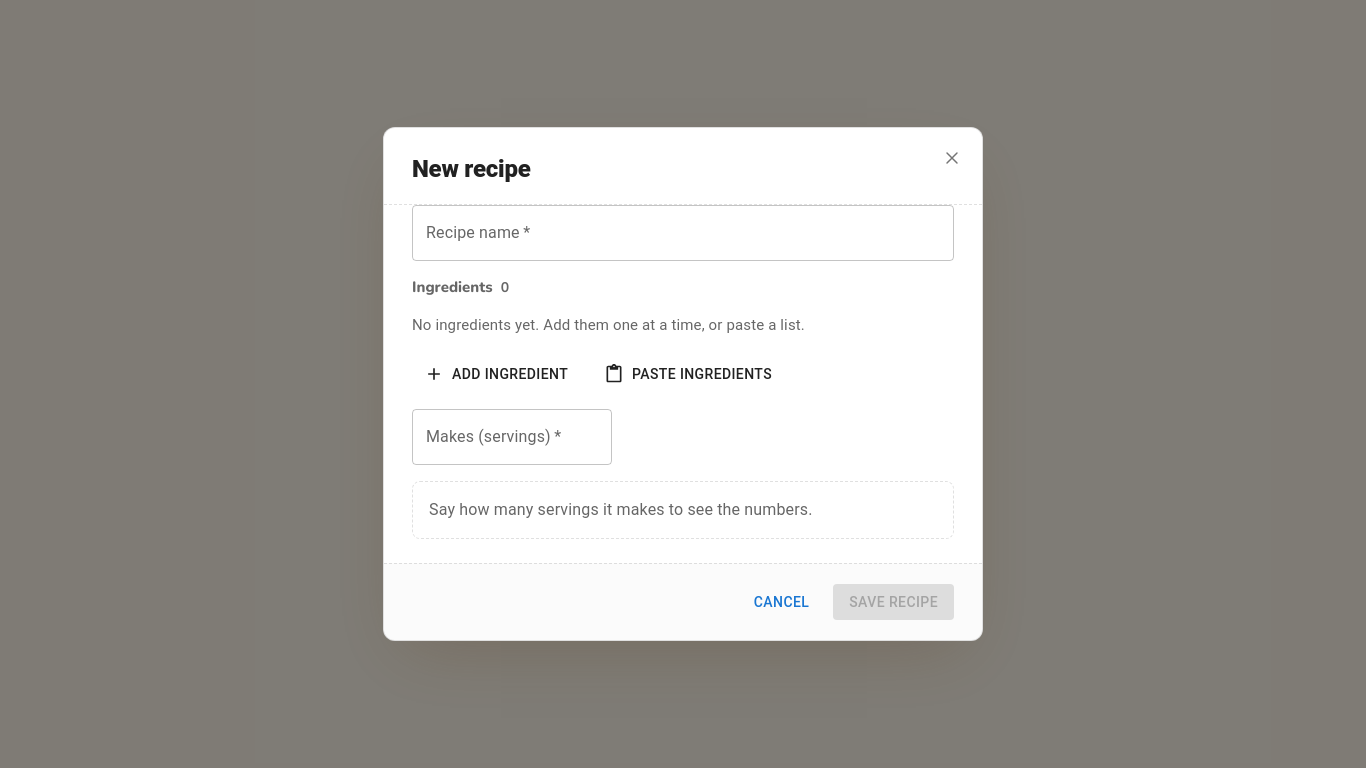
Test: recipe builder: live preview and save › keeps Save disabled until name, a resolved ingredient and a yield exist
expect the button "Save recipe" is disabled: met, box x1=833 y1=584 x2=954 y2=620
Type "Chili" into the field labelled "Recipe name *". click: (683, 232)
box: x1=412 y1=204 x2=954 y2=260
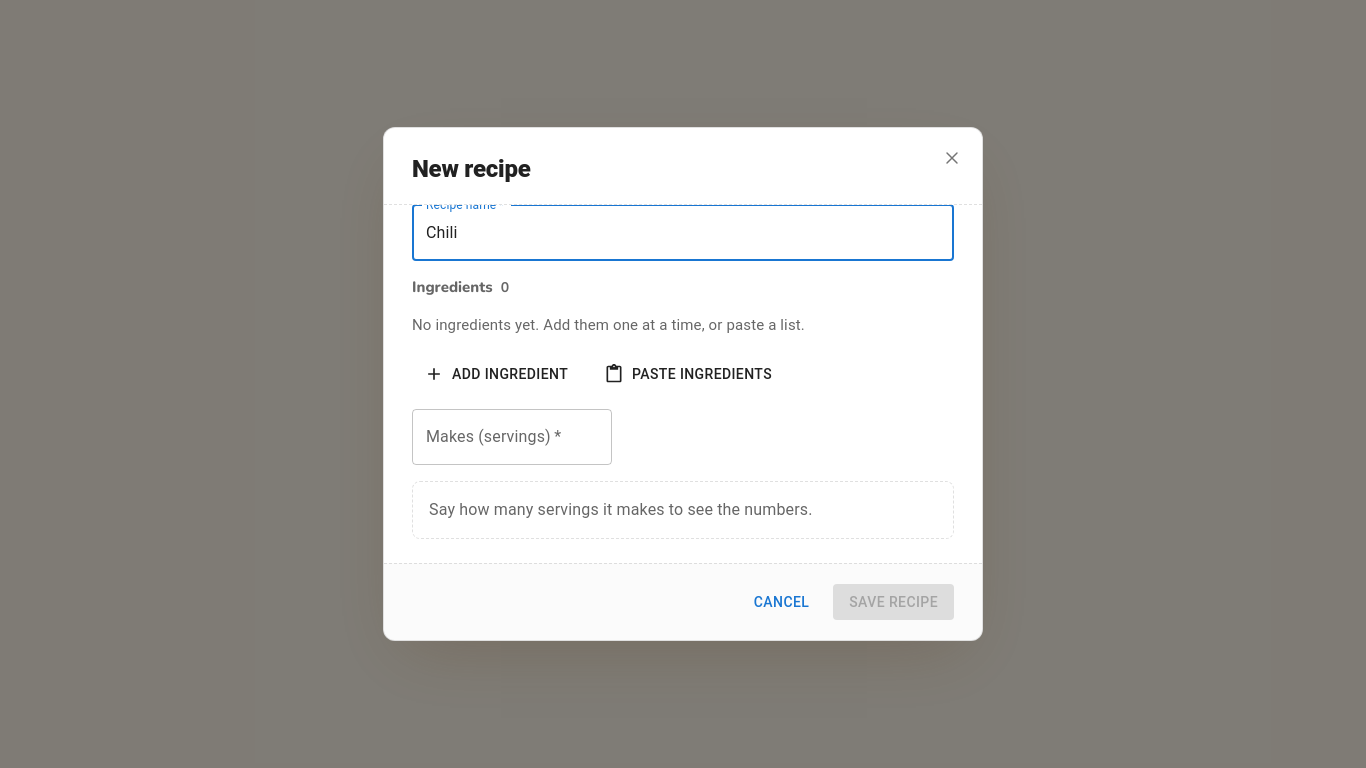
Click the button "Add ingredient". click: (498, 374)
box: x1=412 y1=356 x2=584 y2=392
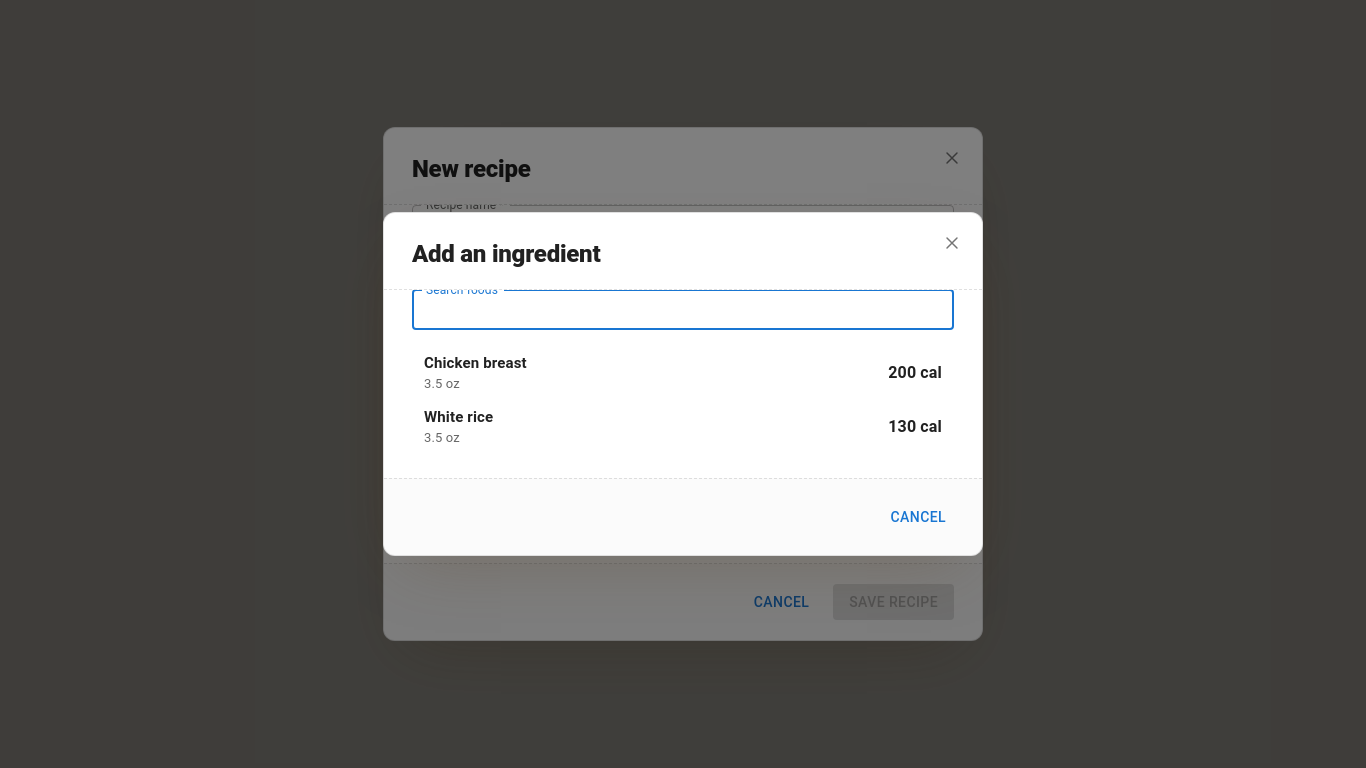
Click the button "Chicken breast 3.5 oz 200 cal". click: (475, 363)
box: x1=412 y1=346 x2=954 y2=400
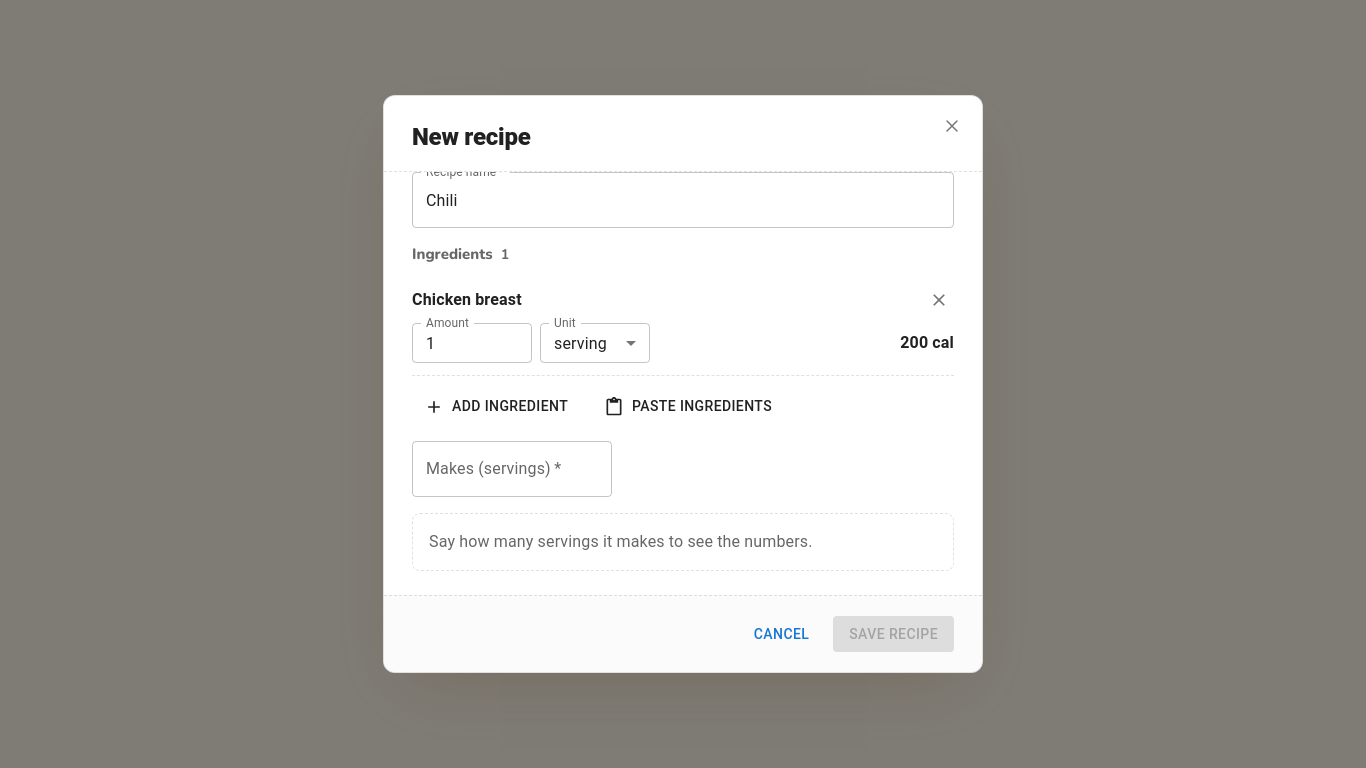
expect the button "Save recipe" is disabled: met, box x1=833 y1=616 x2=954 y2=652
expect the label labelled "Search foods" is gone: met
Type "2.5" into the number field labelled "Makes (servings) *". click: (512, 469)
box: x1=412 y1=441 x2=612 y2=497
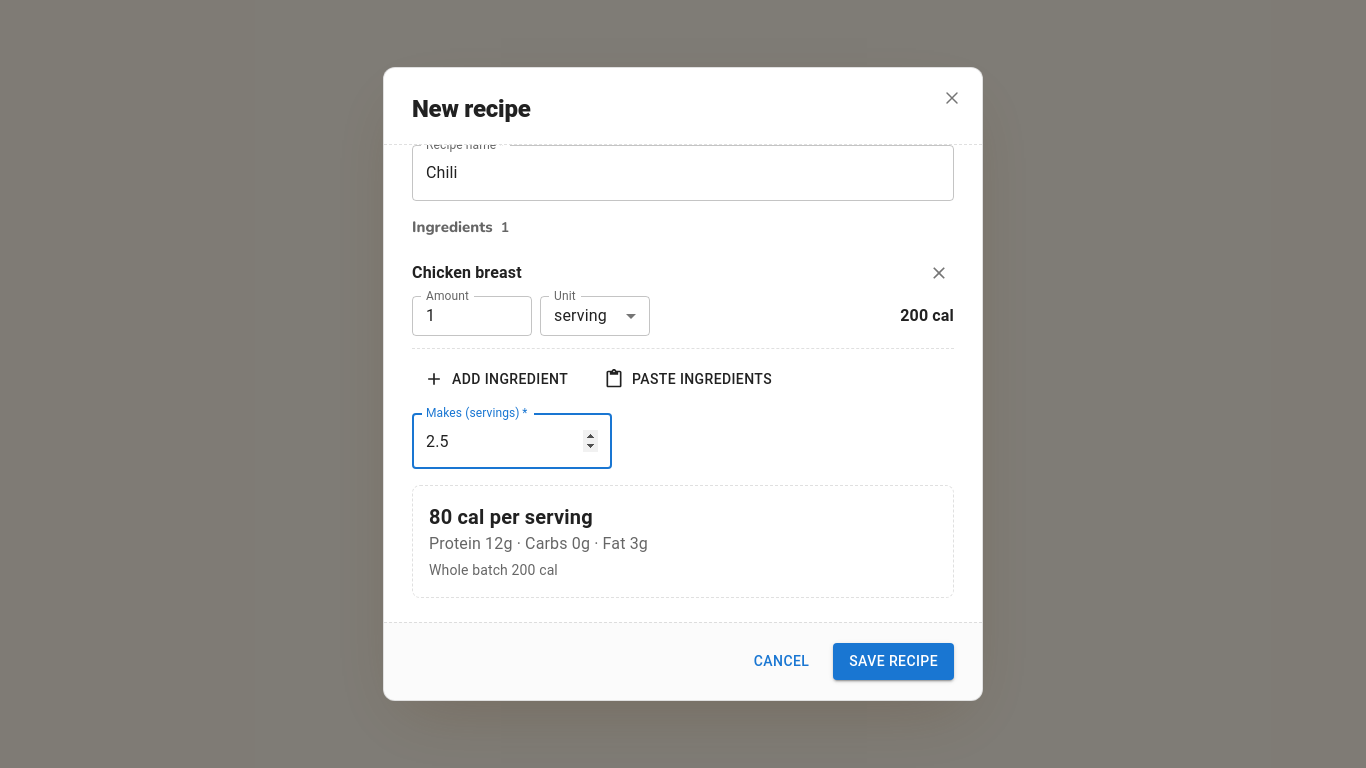
expect the button "Save recipe" is enabled: met, box x1=833 y1=643 x2=954 y2=680
